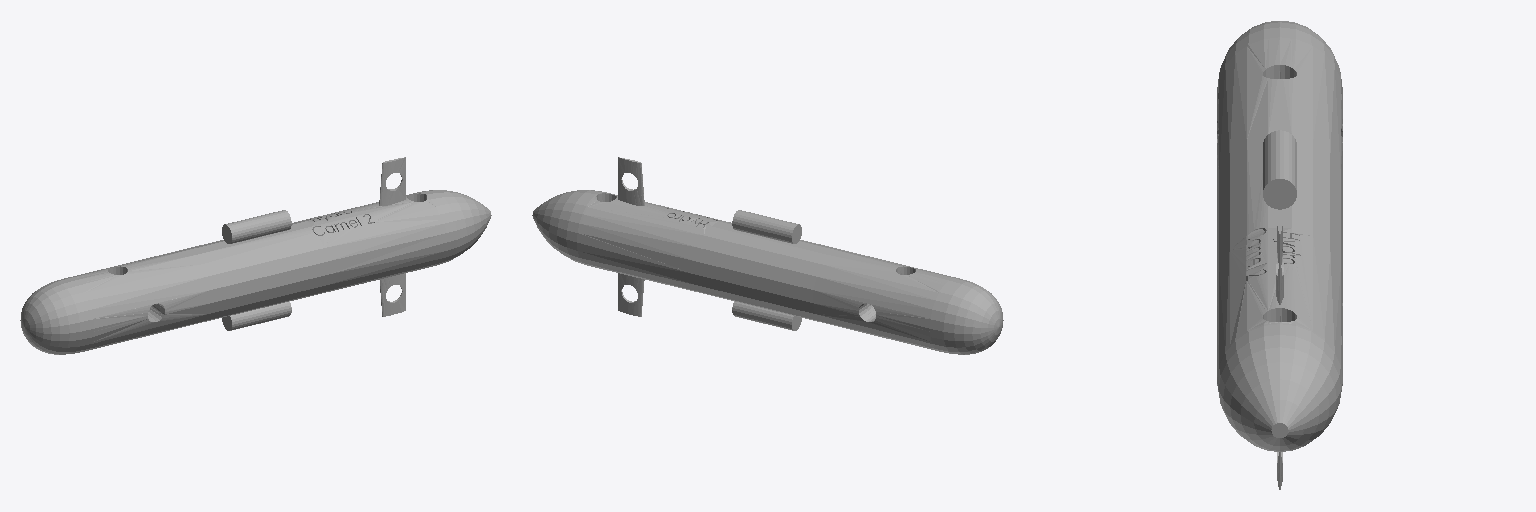
The robot description file, URDF, robot "Hydro Camel 2 (Inaccurate measurements).SLDPRT":
<robot
  name="Hydro Camel 2 (Inaccurate measurements).SLDPRT">
  <link
    name="Hydro_Camel_2">
    <inertial>
      <origin
        xyz="-0.023145 2.61830000000001E-06 0.0002058"
        rpy="0 0 0" />
      <mass
        value="100.61" />
      <inertia
        ixx="1.42694061945462"
        ixy="0.00868780942309498"
        ixz="-0.000117114508854445"
        iyy="1.62736318807746E-07"
        iyz="-38.6232719537211"
        izz="-1.6273631407209E-07" />
    </inertial>
    <visual>
      <origin
        xyz="1.5707963267949 0 0"
        rpy="0 0 0" />
      <geometry>
        <mesh
          filename="package://Hydro_Camel_2/meshes/Hydro_Camel_2.STL" />
      </geometry>
      <material
        name="">
        <color
          rgba="0.69804 0.69804 0.69804 1" />
      </material>
    </visual>
    <collision>
      <origin
        xyz="0 0 0"
        rpy="1.5707963267949 0 0" />
      <geometry>
        <mesh
          filename="package://Hydro_Camel_2/meshes/Hydro_Camel_2.STL" />
      </geometry>
    </collision>
  </link>
</robot>

--- Facts derived from the render (not from the file) ---
3 views of the same robot in one strip: view 1: azimuth 30°, elevation 25°; view 2: azimuth 150°, elevation 25°; view 3: azimuth 270°, elevation 25° (orthographic).
Model Hydro Camel 2 (Inaccurate measurements).SLDPRT with 1 links and 0 joints (none), rooted at Hydro_Camel_2, posed all joints at 0.
Links seen in each view (by area): view 1: Hydro_Camel_2; view 2: Hydro_Camel_2; view 3: Hydro_Camel_2.
Link boxes in pixels (left/top/right/bottom): Hydro_Camel_2: left=20, top=157, right=491, bottom=354; Hydro_Camel_2: left=532, top=157, right=1003, bottom=354; Hydro_Camel_2: left=1217, top=21, right=1342, bottom=489.
Bounding box of the posed robot: 2.34 × 0.331 × 0.74 m (x, y, z).
Meshes: 1 distinct files referenced, 1 mesh visuals loaded (1 binary STL).